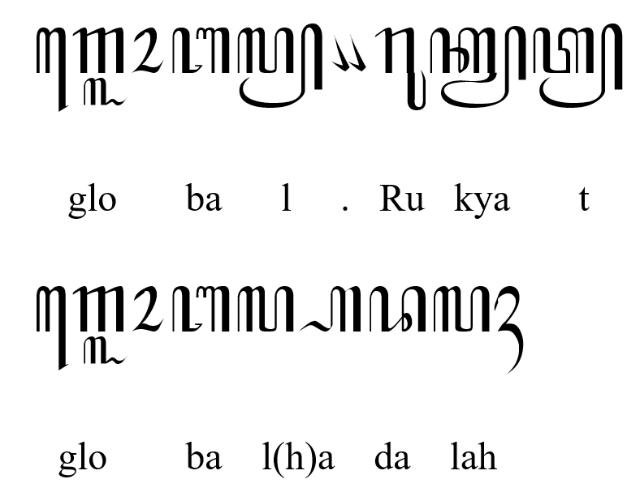-l: (236, 23, 324, 110)
-t: (531, 24, 623, 108)
_h: (298, 287, 362, 334)
_h1: (495, 288, 525, 376)
_l: (82, 77, 128, 107), (82, 337, 128, 367)
b: (171, 26, 229, 74), (172, 287, 230, 334)
d: (369, 284, 427, 334)
e1: (36, 26, 70, 112), (36, 284, 68, 371)
g: (72, 286, 125, 334), (73, 27, 125, 74)
kom: (346, 33, 366, 73), (332, 34, 350, 72)
ky: (429, 24, 526, 109)
l: (236, 286, 294, 334), (433, 286, 491, 334)
o: (130, 26, 163, 74), (132, 286, 164, 332)
ru: (376, 27, 426, 112)
